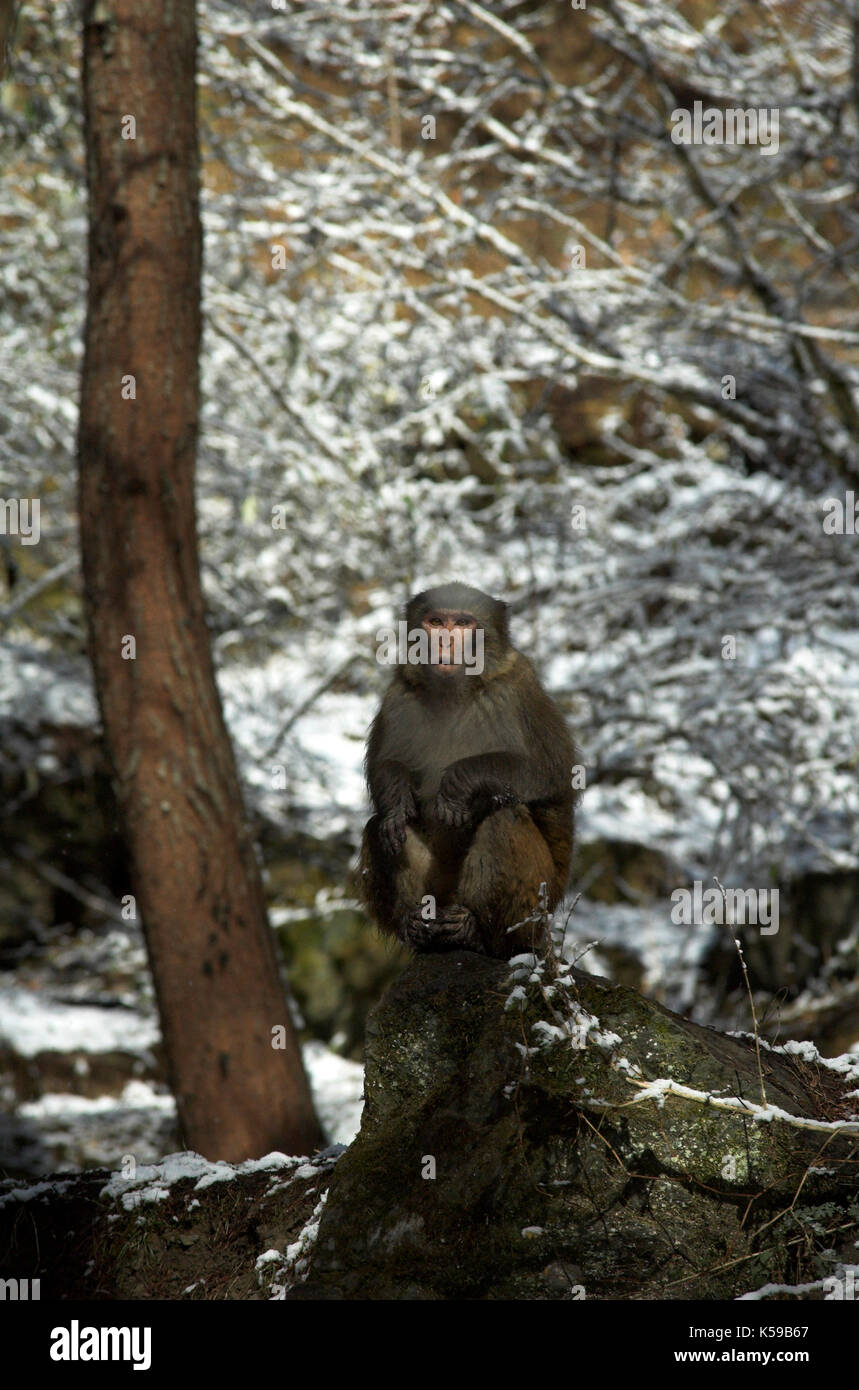monkey: (345, 575, 610, 1073)
